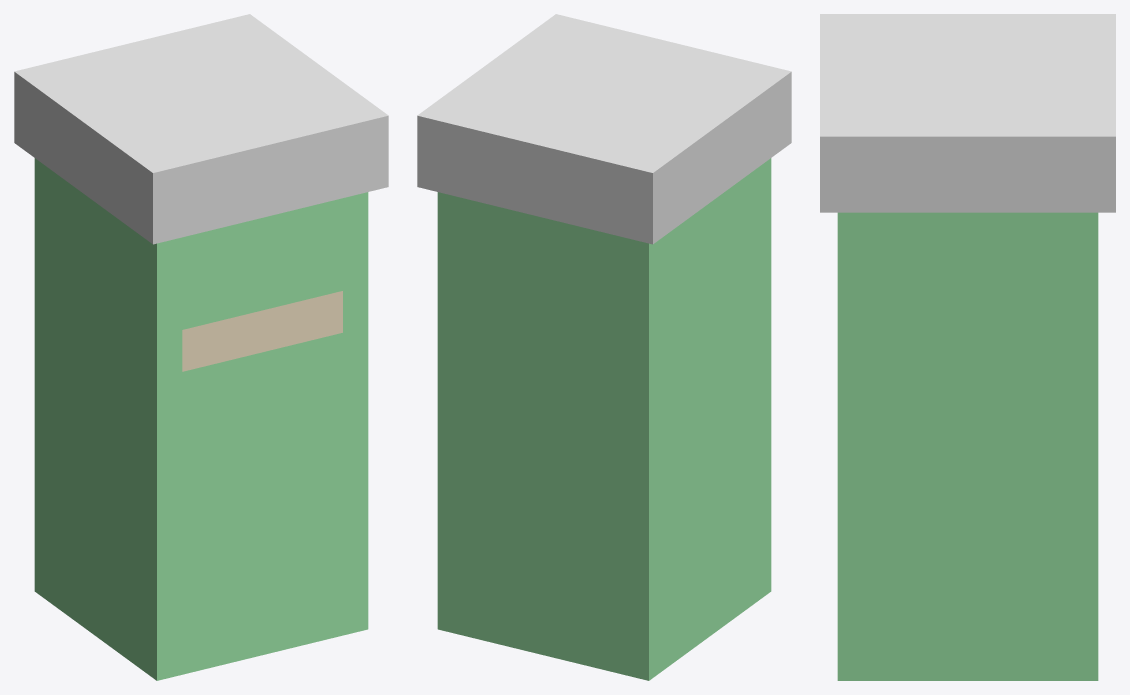
The model's file is tablets_1.fbx.
The picture shows the model from 3 angles, left to right: view 1: azimuth 30°, elevation 25°; view 2: azimuth 150°, elevation 25°; view 3: azimuth 270°, elevation 25°; orthographic projection. The views are drawn at different scales.
Visible parts, largest first — view 1: Cube_40; view 2: Cube_40; view 3: Cube_40.
Part boxes in pixels (bbox=[...]): Cube_40: bbox=[14, 14, 388, 680]; Cube_40: bbox=[417, 14, 791, 680]; Cube_40: bbox=[820, 14, 1115, 680].
Bounding box in the file's own units: 4.63 × 9.69 × 4.72.
